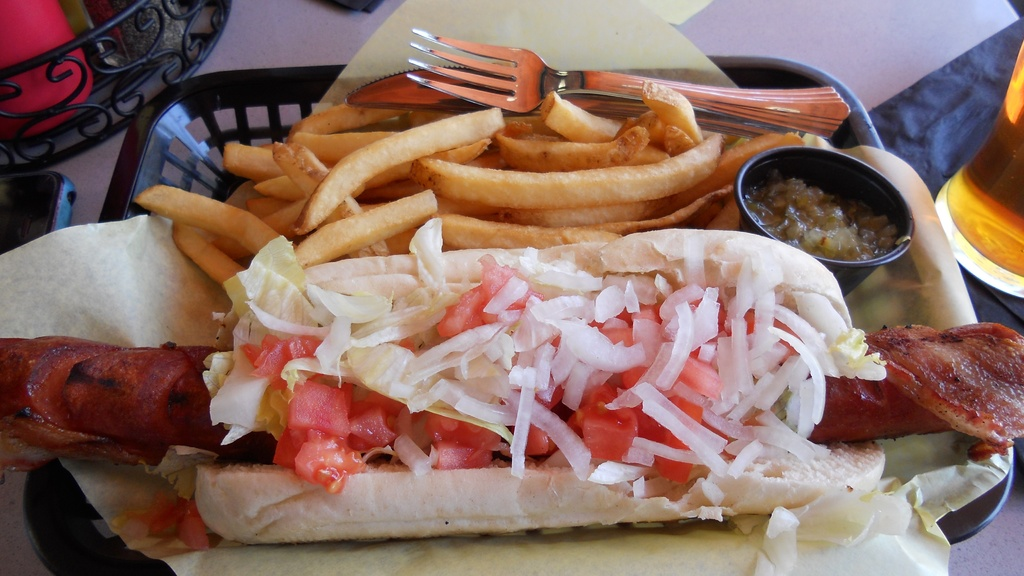French fries: (264, 63, 759, 280)
